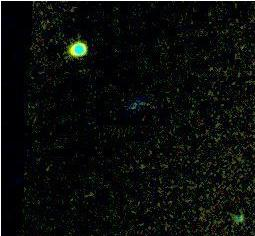star: (233, 172, 255, 202)
